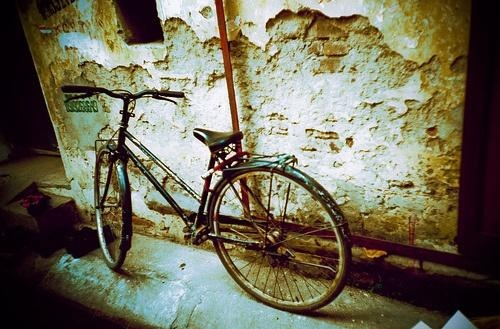bicycle: (59, 84, 354, 315)
